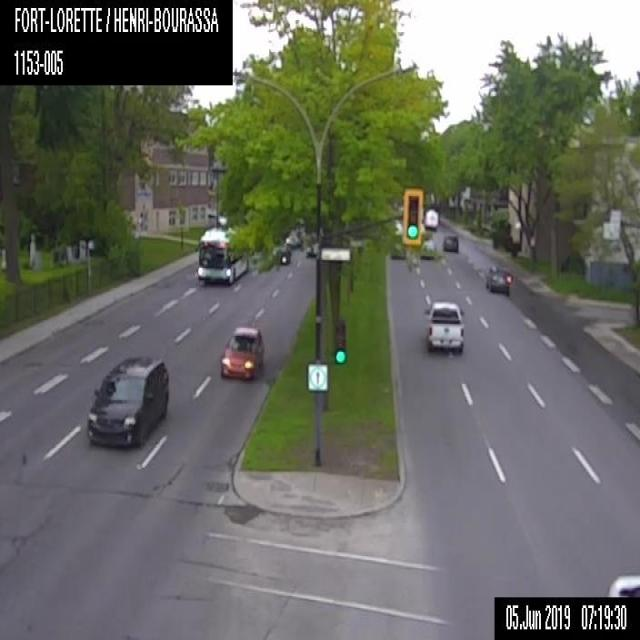bus: (196, 224, 248, 285)
vehicle: (85, 351, 170, 449), (218, 324, 264, 381), (426, 300, 466, 352), (606, 571, 639, 596), (484, 265, 513, 293), (418, 238, 435, 258), (424, 206, 438, 227), (442, 234, 458, 252), (390, 240, 405, 258)
